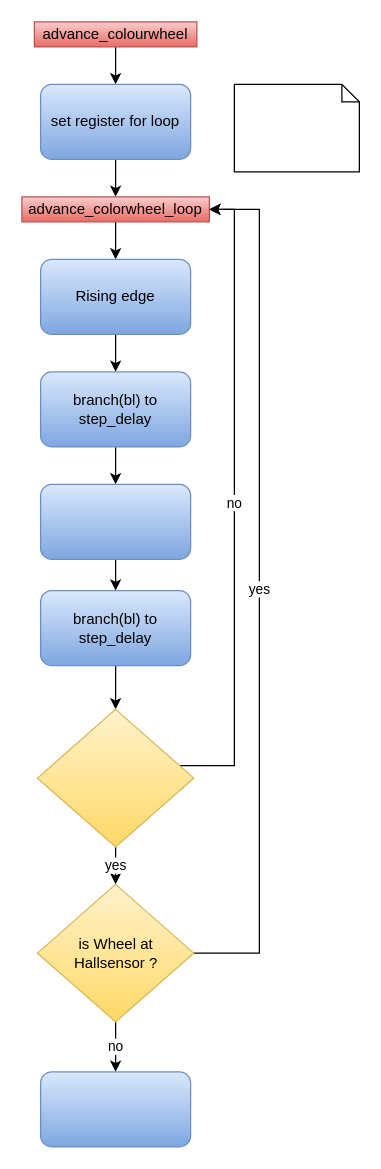
Some shapes in this 381 by 1169 pixel diagram are drawn without their labels. Here are the shapes that lost their labels. From the top down, the centre of each, then its label:
the point at 296,127: Note 200 loop iterations
the point at 115,521: Falling edge
the point at 115,777: is loop finish?
the point at 115,1109: exit
